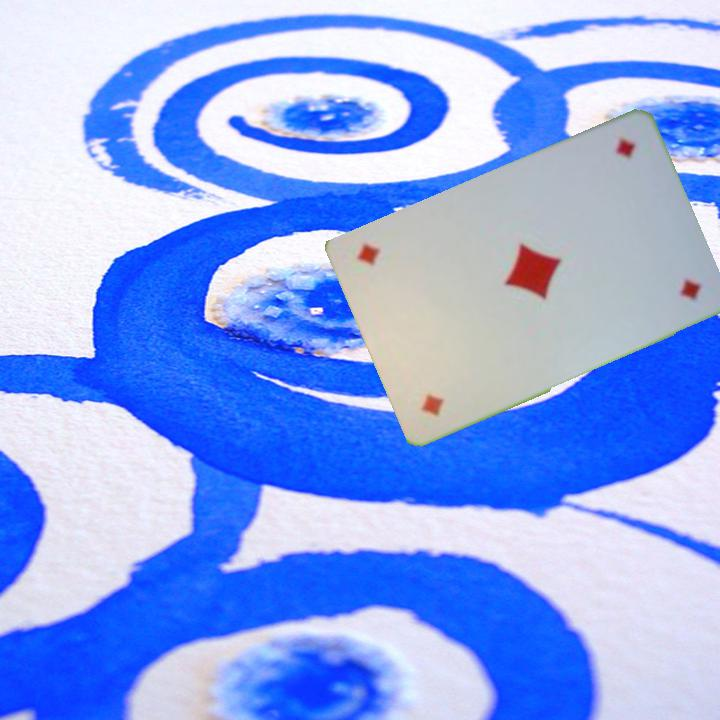d_a.png: (380, 305, 497, 429), (560, 126, 677, 249)
